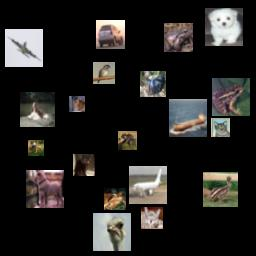airplane: (5, 29, 43, 67), (129, 166, 167, 204)
automobile: (96, 20, 125, 49)
bird: (93, 213, 131, 251), (203, 172, 238, 207), (140, 71, 166, 97), (93, 62, 115, 84)
cat: (141, 207, 163, 229), (73, 154, 95, 176), (211, 118, 230, 137), (69, 96, 85, 112)
dog: (205, 8, 243, 46), (26, 170, 64, 208), (20, 92, 55, 127)
frog: (212, 78, 250, 116), (164, 23, 193, 52), (104, 188, 126, 210), (118, 131, 137, 150)
ship: (169, 99, 207, 137)
